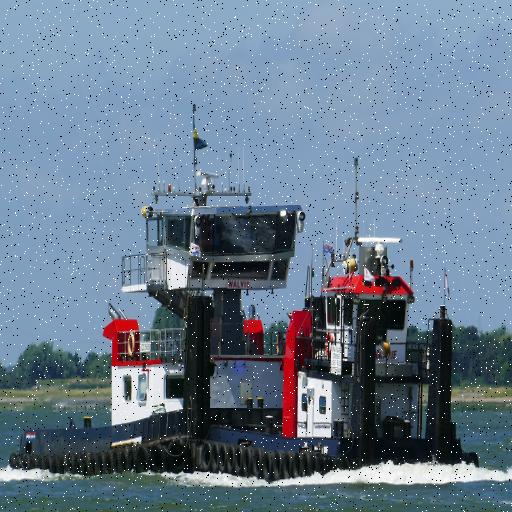tugboat: (5, 171, 489, 490)
